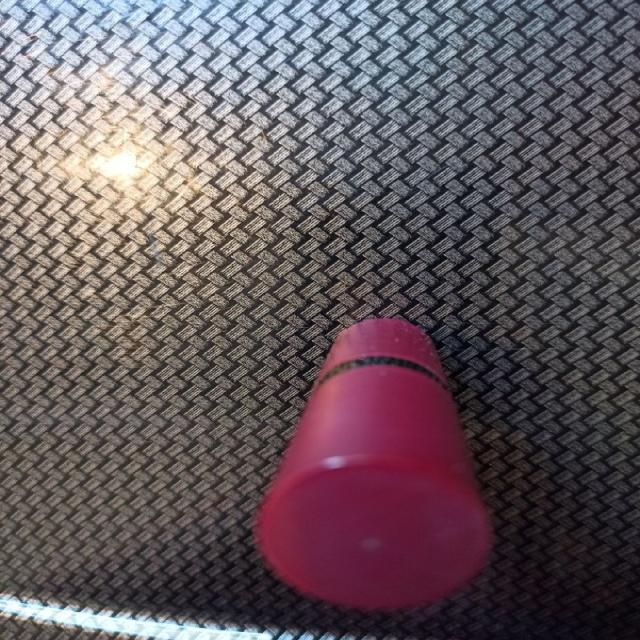lipstick: (252, 316, 496, 611)
